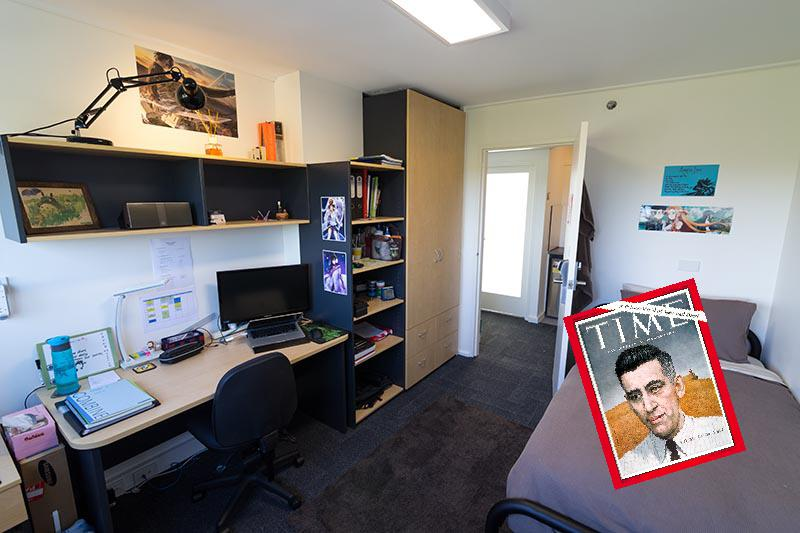times: (563, 276, 754, 493)
